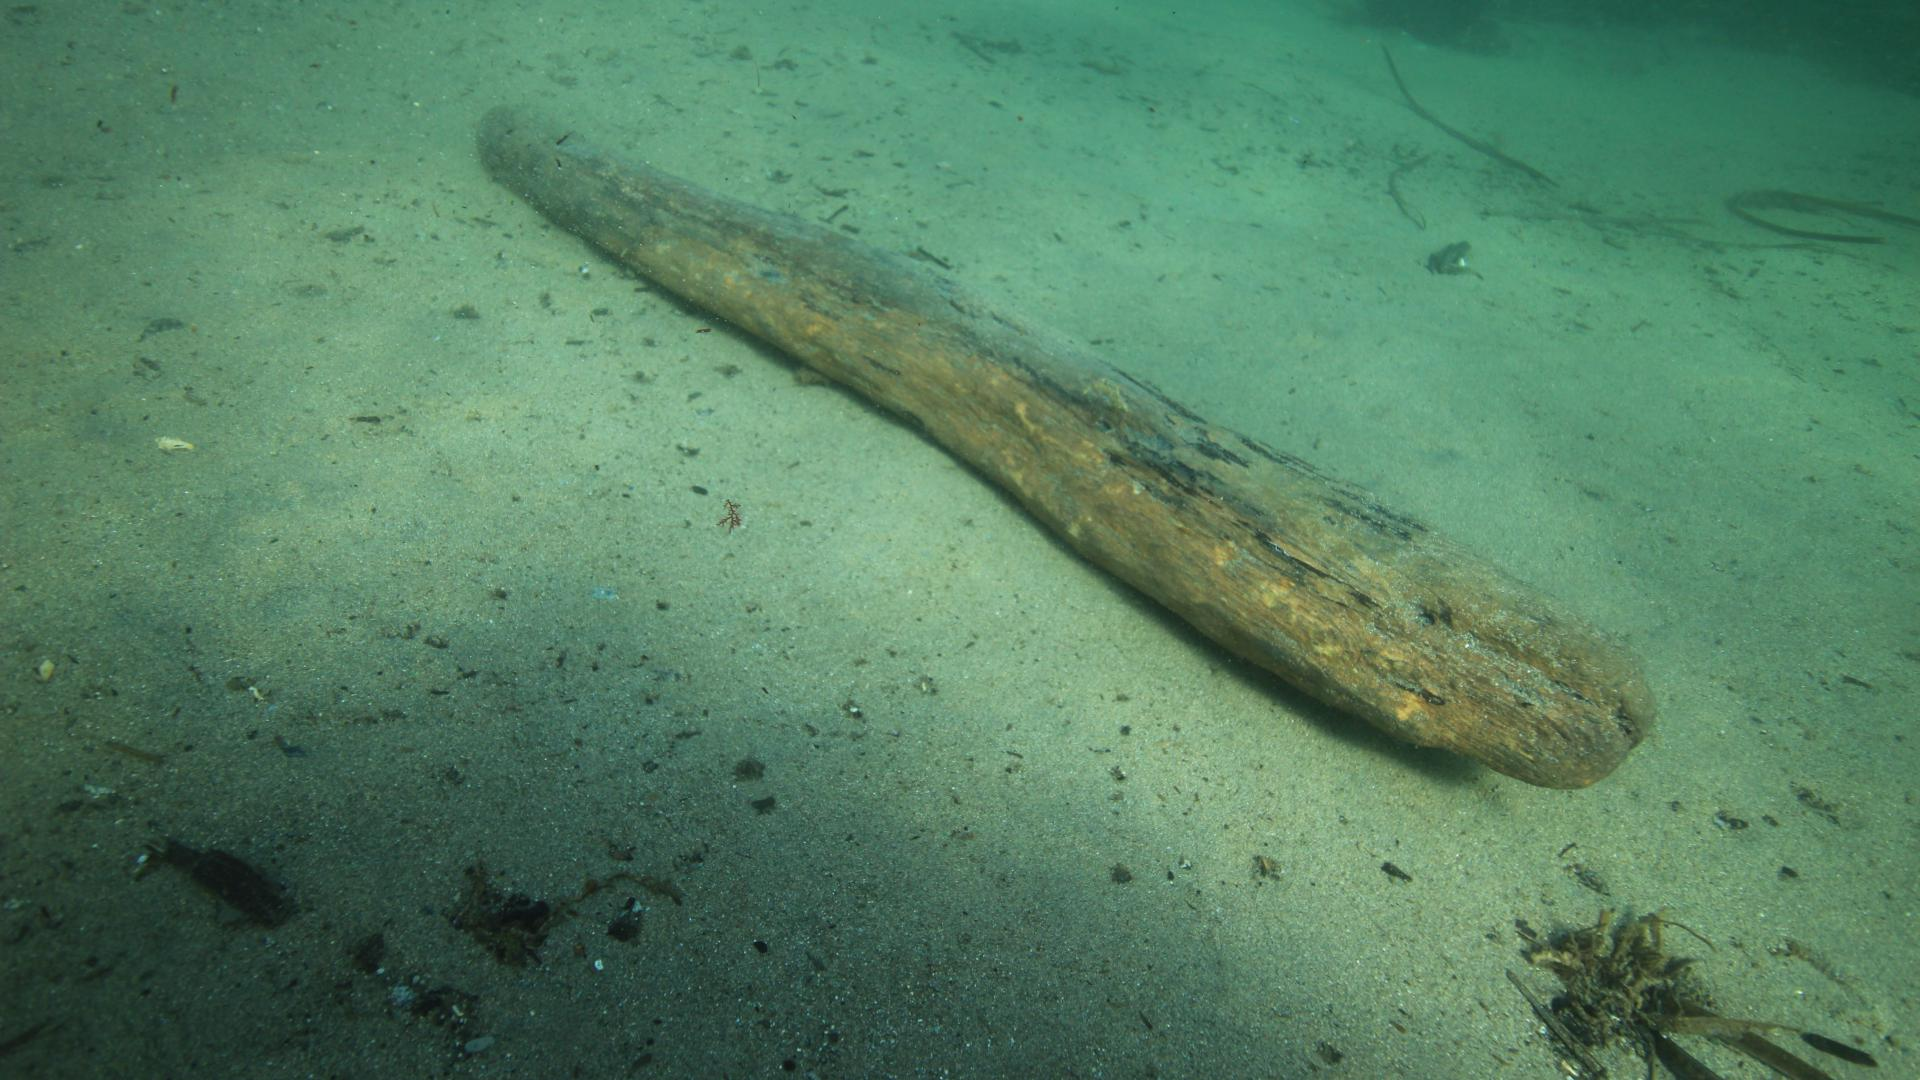wood: (477, 100, 1658, 789)
